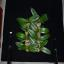leaf: (30, 7, 39, 22), (28, 29, 39, 40), (29, 35, 39, 47), (18, 22, 28, 32), (39, 46, 51, 54), (16, 41, 26, 50), (39, 14, 48, 24), (30, 22, 39, 32), (16, 32, 27, 40), (28, 15, 40, 22), (38, 27, 49, 34), (39, 40, 48, 48), (38, 34, 50, 40), (16, 16, 28, 22), (28, 46, 38, 52), (20, 44, 28, 50), (20, 39, 27, 43)
